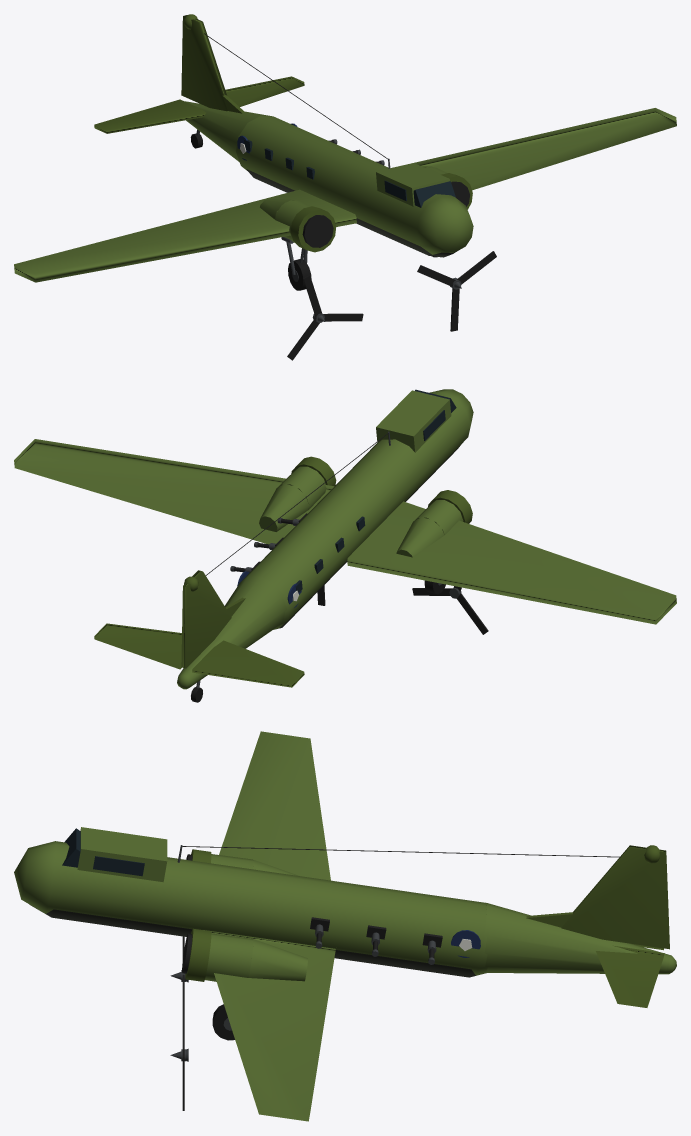
Rendered from ac47-spooky.glb.
3 renders of one model, top to bottom at view 1: azimuth 30°, elevation 25°; view 2: azimuth 150°, elevation 25°; view 3: azimuth 270°, elevation 25°, orthographic. The views are drawn at different scales.
Parts seen in each view (by area): view 1: Mesh_Fuselage, Mesh_MainWingRight, Mesh_MainWingLeft, Mesh_TailFin, Mesh_TailTaper, Mesh_StabilizerRight, Mesh_CockpitHump, Mesh_StabilizerLeft, Mesh_CowlR, Mesh_Belly, Mesh_EngineFaceR, Mesh_Windshield (+1 smaller); view 2: Mesh_MainWingRight, Mesh_Fuselage, Mesh_MainWingLeft, Mesh_TailTaper, Mesh_TailFin, Mesh_StabilizerRight, Mesh_CockpitHump, Mesh_StabilizerLeft, Mesh_NacelleAftL, Mesh_NacelleAftR, Mesh_NacelleL, Mesh_NacelleR (+2 smaller); view 3: Mesh_Fuselage, Mesh_MainWingLeft, Mesh_MainWingRight, Mesh_TailFin, Mesh_TailTaper, Mesh_CockpitHump, Mesh_StabilizerLeft, Mesh_Belly, Mesh_NacelleL, Mesh_NacelleAftL, Mesh_CowlL, Mesh_CockpitWinL (+1 smaller).
Boxes of the visible parts, x1,y1,x2,y2 form: Mesh_Fuselage: (235, 116, 473, 254); Mesh_MainWingRight: (14, 189, 356, 282); Mesh_MainWingLeft: (391, 108, 676, 190); Mesh_TailFin: (181, 15, 227, 111); Mesh_TailTaper: (185, 101, 273, 161); Mesh_StabilizerRight: (94, 99, 205, 133); Mesh_CockpitHump: (376, 163, 449, 206); Mesh_StabilizerLeft: (225, 76, 304, 106); Mesh_CowlR: (290, 206, 336, 252); Mesh_Belly: (246, 169, 456, 257); Mesh_EngineFaceR: (302, 215, 333, 247); Mesh_Windshield: (413, 181, 455, 207); Mesh_MainWingRight: (347, 501, 676, 624); Mesh_Fuselage: (238, 389, 473, 629); Mesh_MainWingLeft: (14, 439, 334, 544); Mesh_TailTaper: (178, 576, 286, 686); Mesh_TailFin: (181, 570, 231, 668); Mesh_StabilizerRight: (192, 640, 304, 687); Mesh_CockpitHump: (376, 390, 451, 452); Mesh_StabilizerLeft: (94, 623, 181, 669); Mesh_NacelleAftL: (259, 484, 309, 531); Mesh_NacelleAftR: (396, 517, 444, 557); Mesh_NacelleL: (278, 466, 326, 509); Mesh_NacelleR: (415, 500, 463, 534); Mesh_Fuselage: (14, 841, 487, 975); Mesh_MainWingLeft: (203, 930, 335, 1121); Mesh_MainWingRight: (219, 731, 330, 880); Mesh_TailFin: (561, 845, 669, 949); Mesh_TailTaper: (484, 903, 668, 974); Mesh_CockpitHump: (77, 827, 167, 882); Mesh_StabilizerLeft: (596, 945, 664, 1007); Mesh_Belly: (29, 904, 486, 977); Mesh_NacelleL: (205, 933, 253, 981); Mesh_NacelleAftL: (248, 939, 307, 981); Mesh_CowlL: (185, 928, 211, 981); Mesh_CockpitWinL: (93, 856, 144, 876).
Size of the model in its own units: 26.3 by 7.64 by 19.76.
